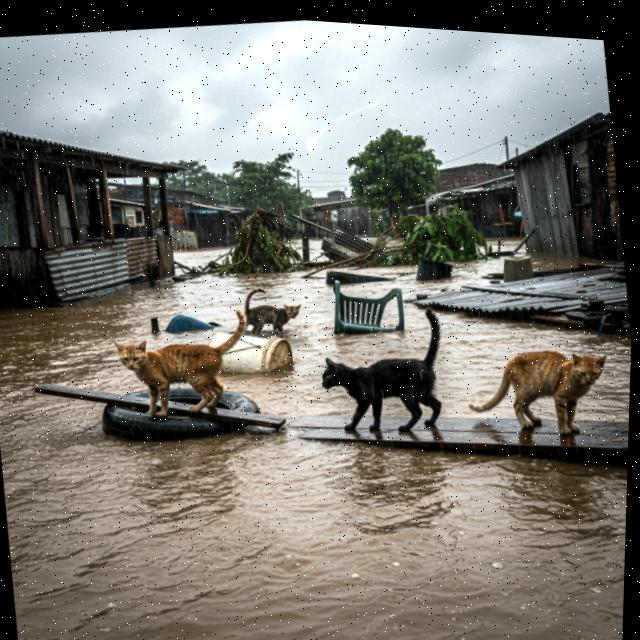cat: (303, 296, 462, 451), (100, 296, 269, 434), (457, 325, 619, 455), (236, 278, 311, 346)
